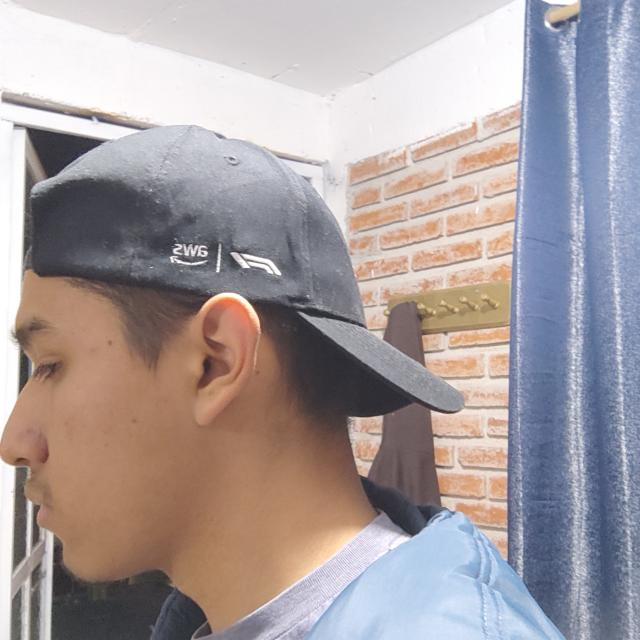ear: (186, 294, 261, 426)
